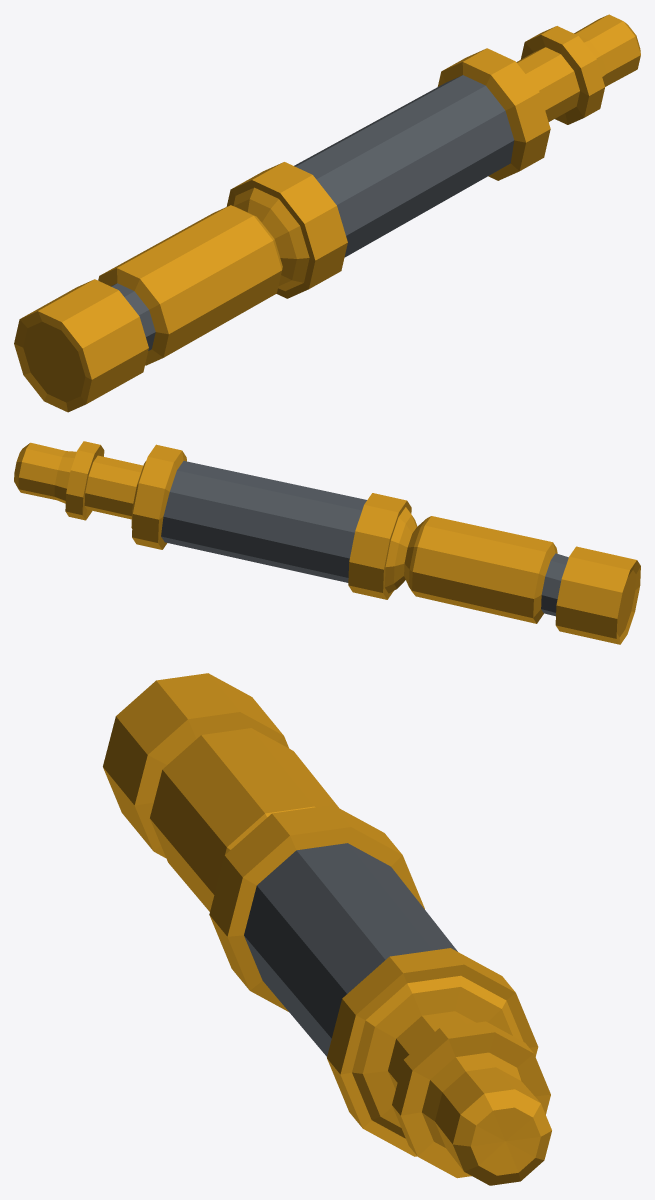
The model's file is Fighter_03_Pipes_03_Yellow.fbx.
The picture shows the model from 3 angles, top to bottom: view 1: azimuth 30°, elevation 25°; view 2: azimuth 150°, elevation 25°; view 3: azimuth 270°, elevation 25°; orthographic projection. The views are drawn at different scales.
Visible parts, largest first — view 1: Fighter_03_Pipes_03_Yellow; view 2: Fighter_03_Pipes_03_Yellow; view 3: Fighter_03_Pipes_03_Yellow.
Boxes of the visible parts, x1,y1,x2,y2 form: Fighter_03_Pipes_03_Yellow: (14,14,640,412); Fighter_03_Pipes_03_Yellow: (14,441,640,644); Fighter_03_Pipes_03_Yellow: (103,673,551,1185).
Bounding box in the file's own units: 235 × 55.14 × 83.95.
Materials: 1 (1 with a texture image).
